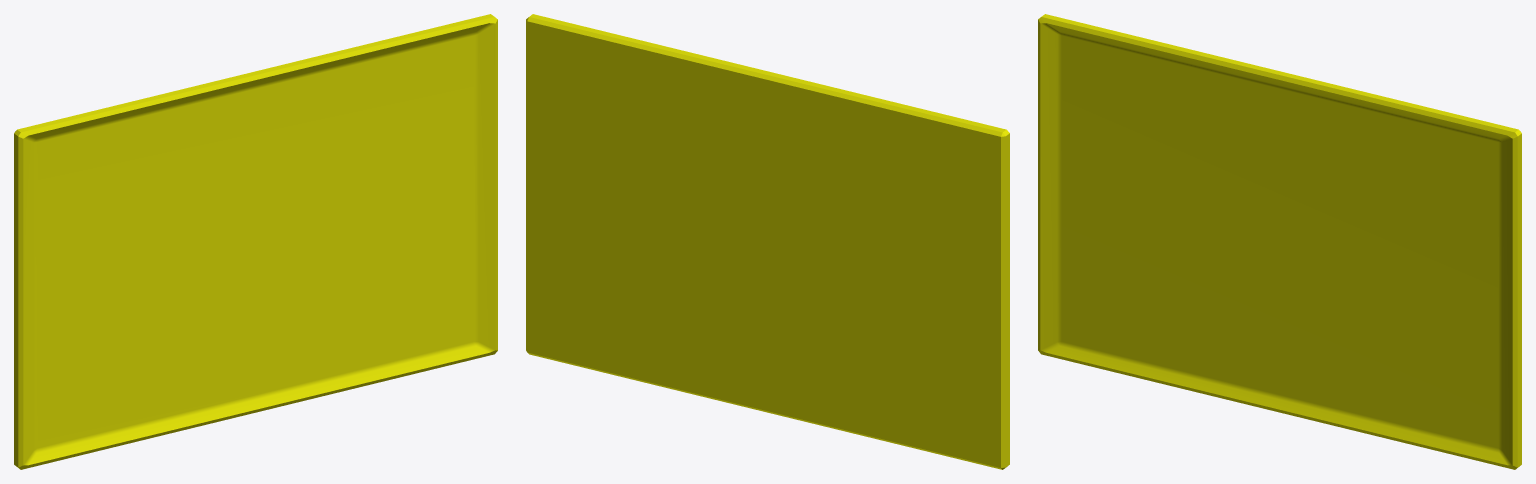
File: KitchenMenuSign.fbx
The picture shows the model from 3 angles, left to right: view 1: azimuth 30°, elevation 25°; view 2: azimuth 150°, elevation 25°; view 3: azimuth 330°, elevation 25°; orthographic projection.
Parts seen in each view (by area): view 1: MenuSign; view 2: MenuSign; view 3: MenuSign.
Boxes of the visible parts, bbox=[...] form: MenuSign: bbox=[14, 14, 497, 469]; MenuSign: bbox=[526, 14, 1009, 469]; MenuSign: bbox=[1038, 14, 1521, 469].
Bounding box in the file's own units: 149 × 100 × 3.87.
